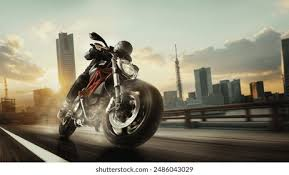motorcycle: (54, 29, 166, 144)
